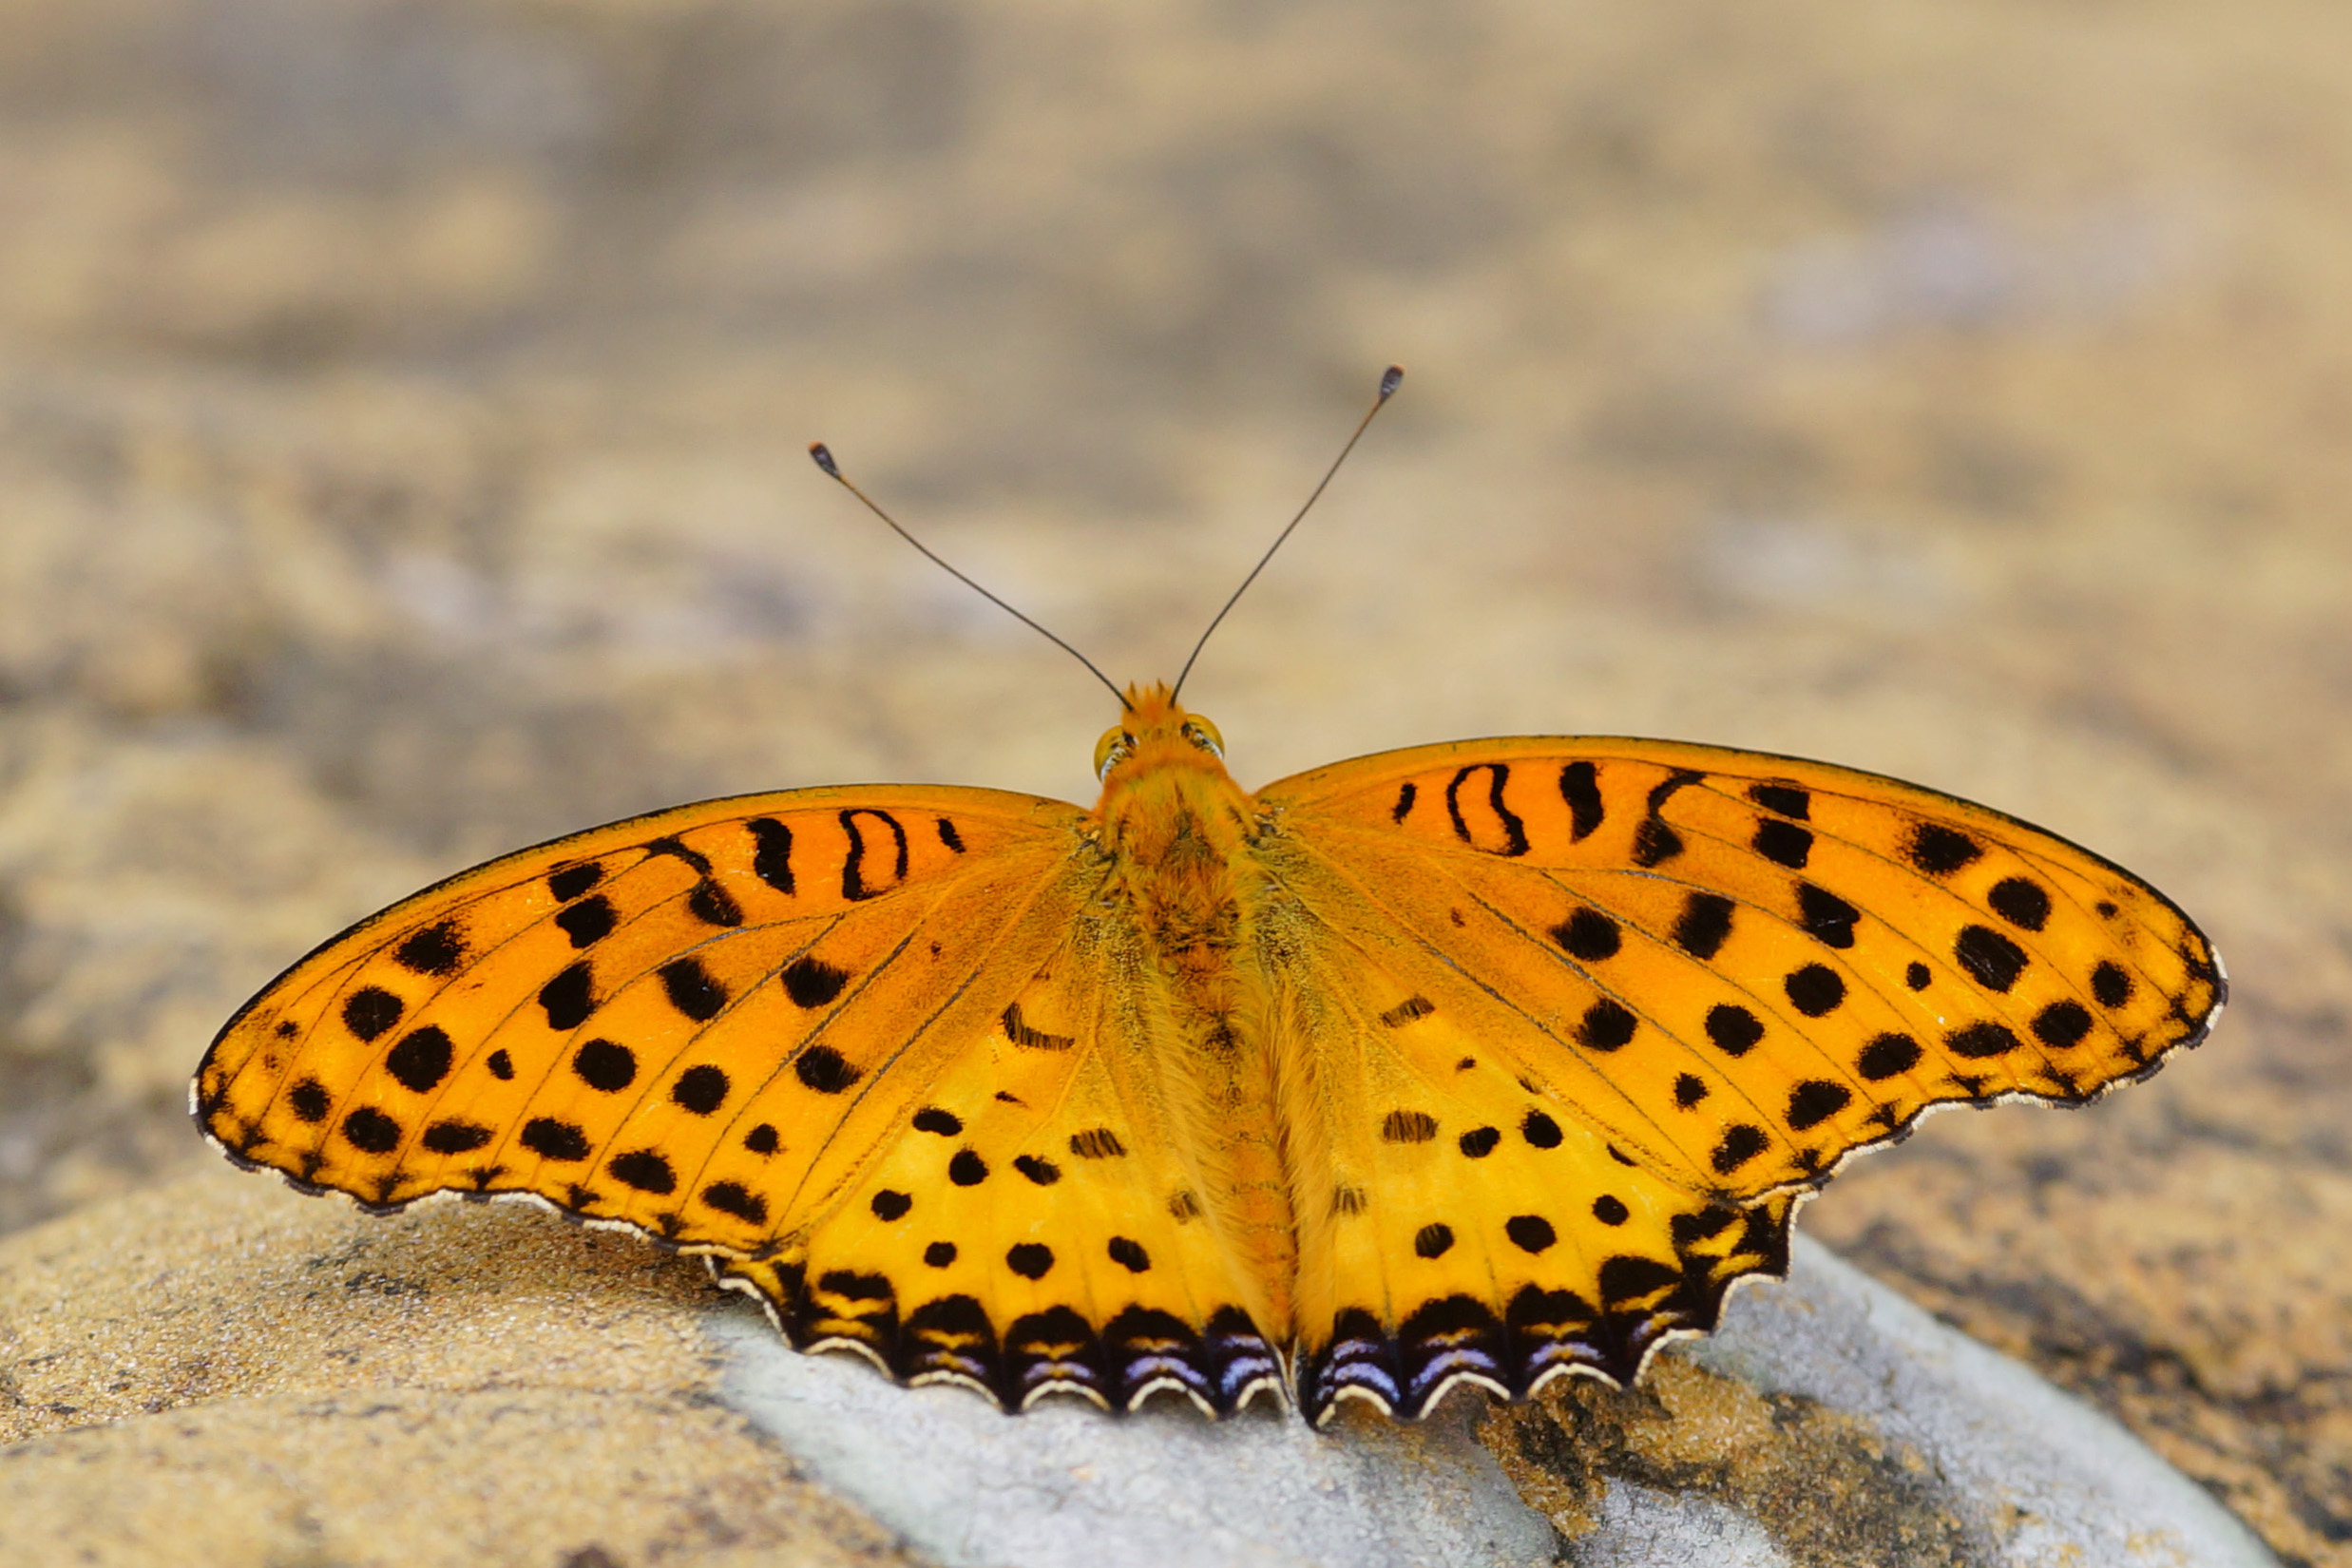Argyreus hyperbius: (161, 355, 2252, 1442)
butterfly: (163, 357, 2254, 1444)
